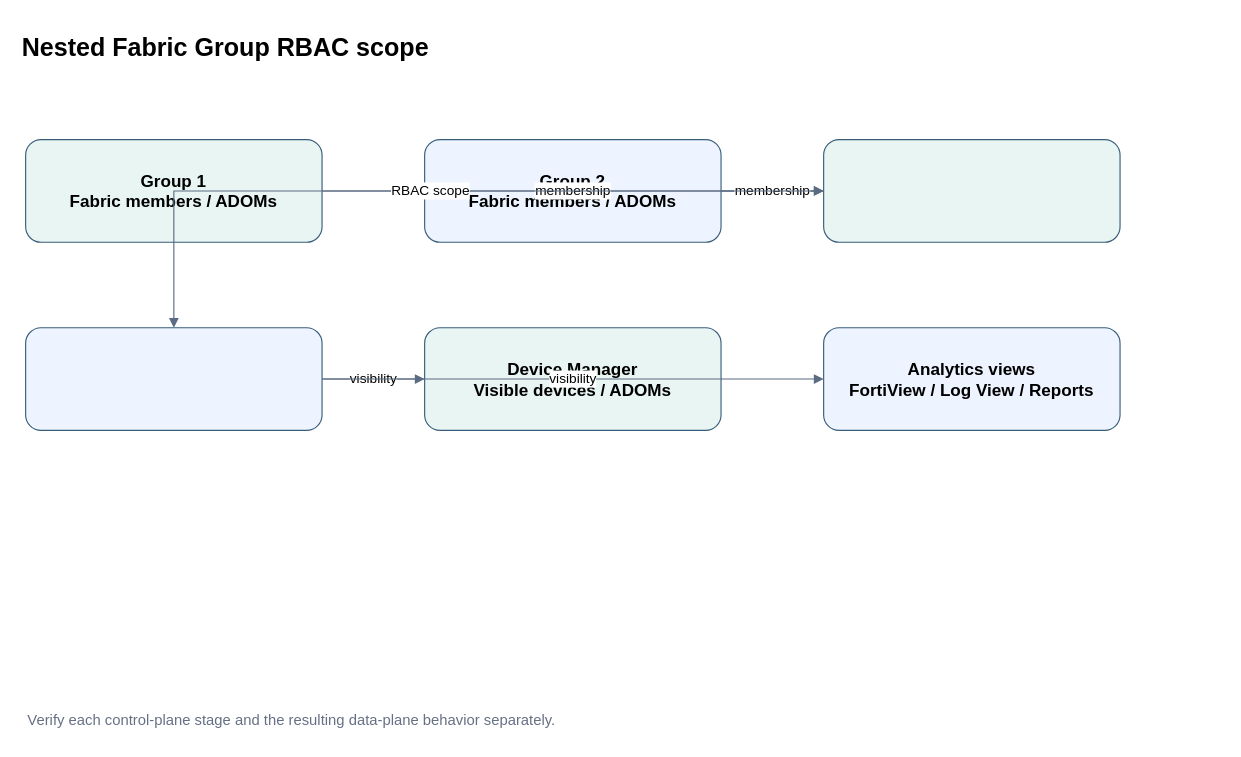
This 1241x757 diagram has some shape labels left out. The centre of each missing label's shape, as x and y in pixels:
Administrator Assigned Group 3: the point at 173,378
Parent Group 3 Contains Group 1 + 2: the point at 971,190
